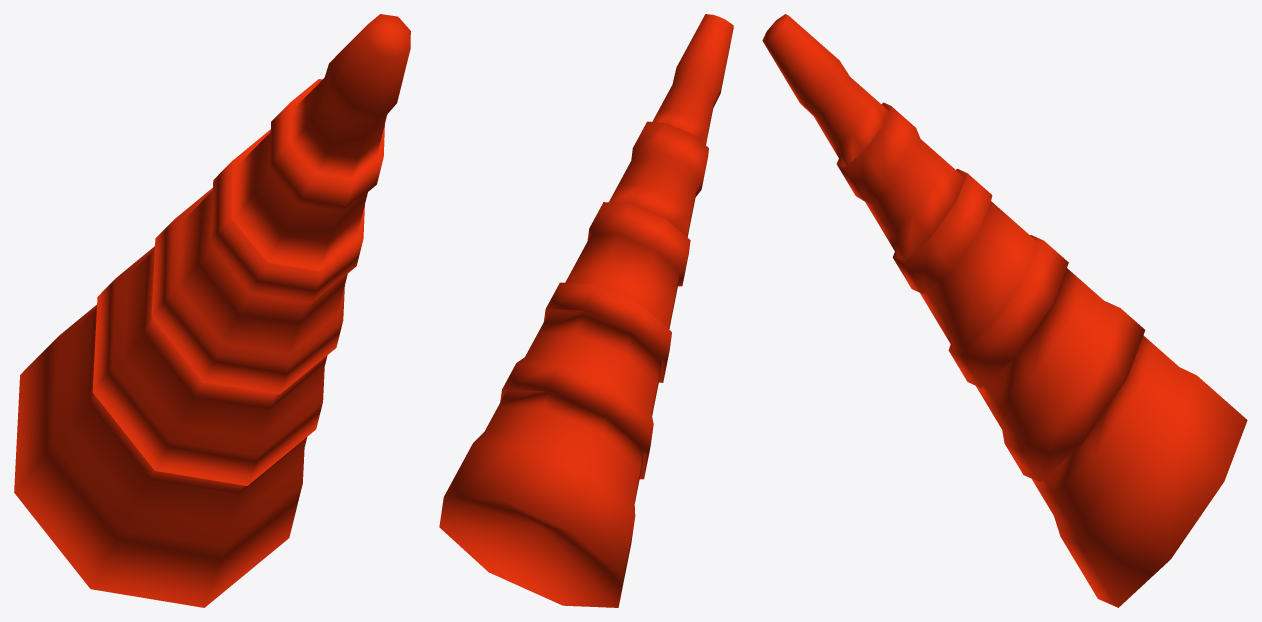
Rendered from Unicorn.fbx.
The picture shows the model from 3 angles, left to right: view 1: azimuth 30°, elevation 25°; view 2: azimuth 150°, elevation 25°; view 3: azimuth 270°, elevation 25°; orthographic projection. The views are drawn at different scales.
Visible parts, largest first — view 1: Unicorn; view 2: Unicorn; view 3: Unicorn.
Part boxes in pixels (x1,y1,x2,y2): Unicorn: [14, 14, 410, 607]; Unicorn: [439, 14, 733, 607]; Unicorn: [762, 14, 1247, 607].
Size of the model in its own units: 24.74 by 63.41 by 48.63.
